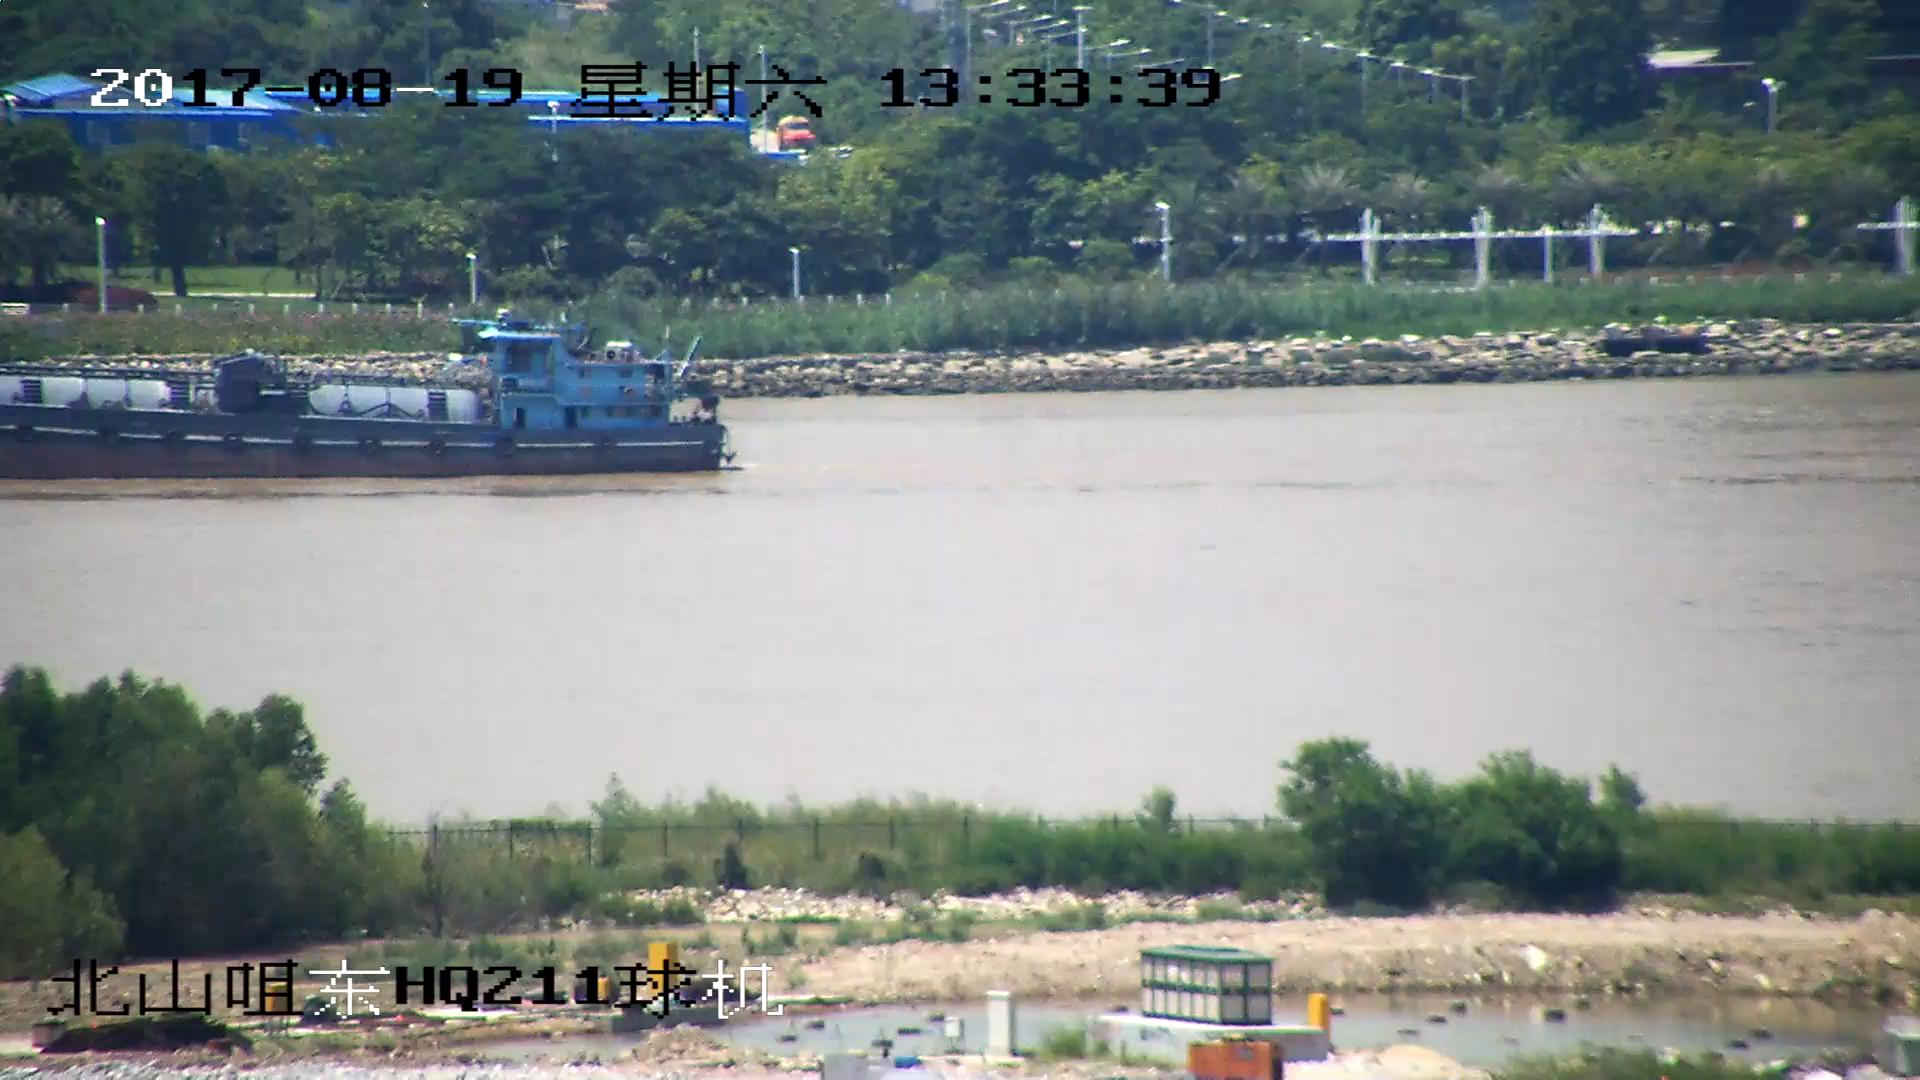bulk cargo carrier: (1, 314, 737, 473)
